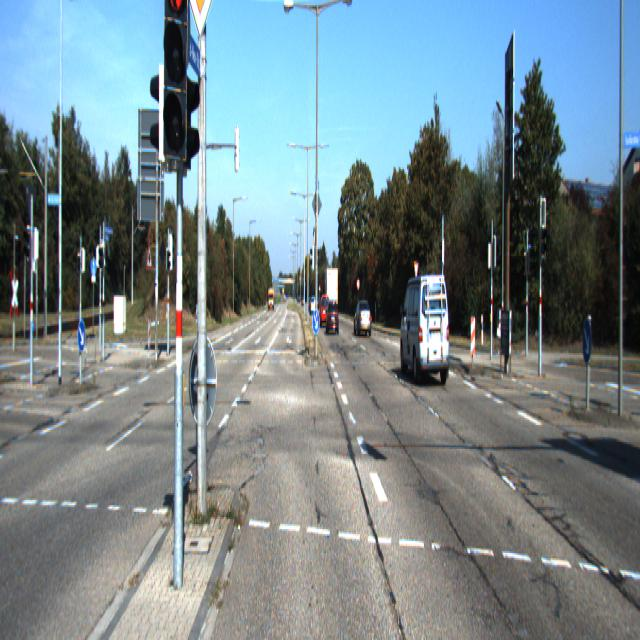Car: (400, 269, 451, 388), (412, 298, 446, 344), (354, 299, 372, 336), (326, 300, 340, 334)
